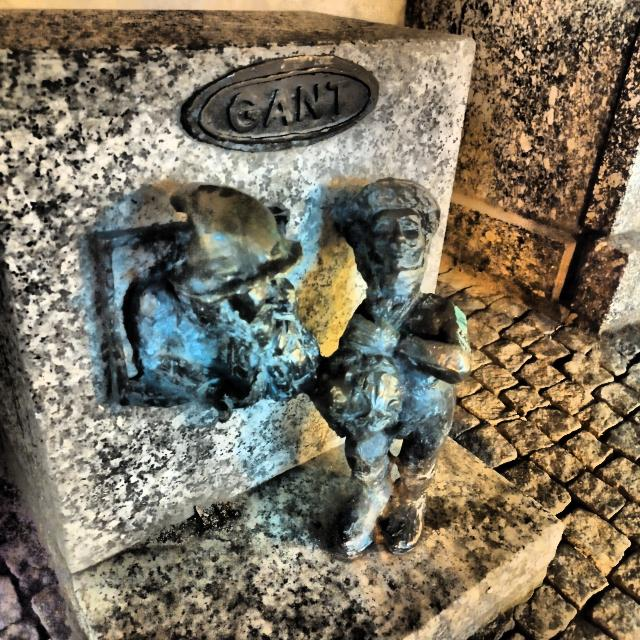Kantorki: (89, 178, 470, 555)
